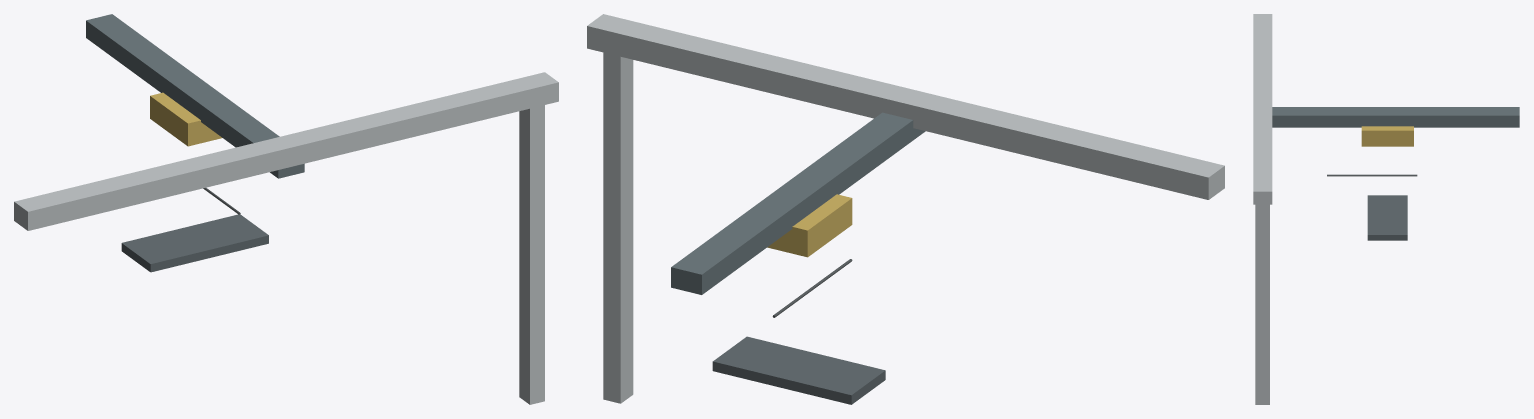
The model's file is rtg-lod1.glb.
3 views of the same model, side by side, from view 1: azimuth 30°, elevation 25°; view 2: azimuth 150°, elevation 25°; view 3: azimuth 270°, elevation 25° (orthographic). The views are drawn at different scales.
Visible parts, largest first — view 1: top-girder, leg, bridge, spreader, trolley; view 2: top-girder, bridge, leg, spreader, trolley; view 3: bridge, top-girder, leg, spreader, trolley, rope.
Boxes of the visible parts, <box> form: top-girder: <box>14,72,558,230</box>; leg: <box>519,105,544,404</box>; bridge: <box>86,14,304,178</box>; spreader: <box>121,214,268,272</box>; trolley: <box>150,92,221,146</box>; top-girder: <box>587,14,1224,199</box>; bridge: <box>671,112,925,294</box>; leg: <box>603,52,633,403</box>; spreader: <box>712,336,885,404</box>; trolley: <box>767,194,852,257</box>; bridge: <box>1272,107,1519,127</box>; top-girder: <box>1253,14,1272,204</box>; leg: <box>1255,204,1269,404</box>; spreader: <box>1367,195,1407,240</box>; trolley: <box>1361,126,1413,146</box>; rope: <box>1327,174,1417,176</box>.
Bounding box in the file's own units: 12.1 × 6.91 × 7.67.
